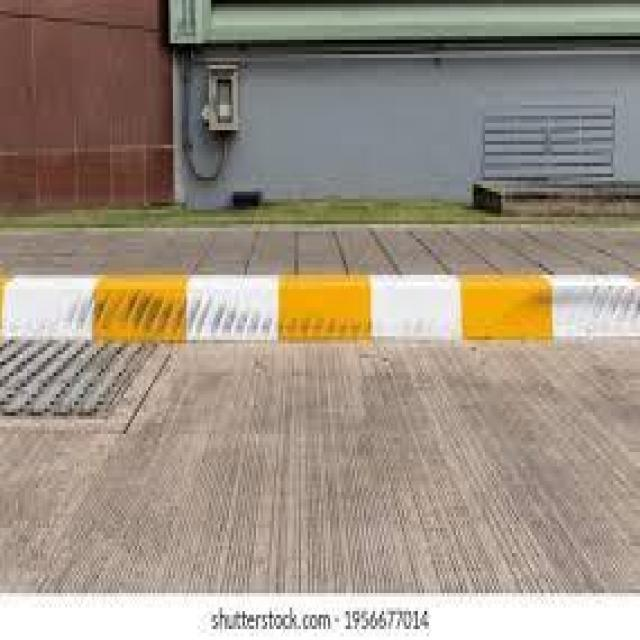curb: (3, 272, 107, 346), (91, 267, 194, 341), (185, 272, 289, 341), (370, 269, 464, 344), (279, 274, 372, 340)
